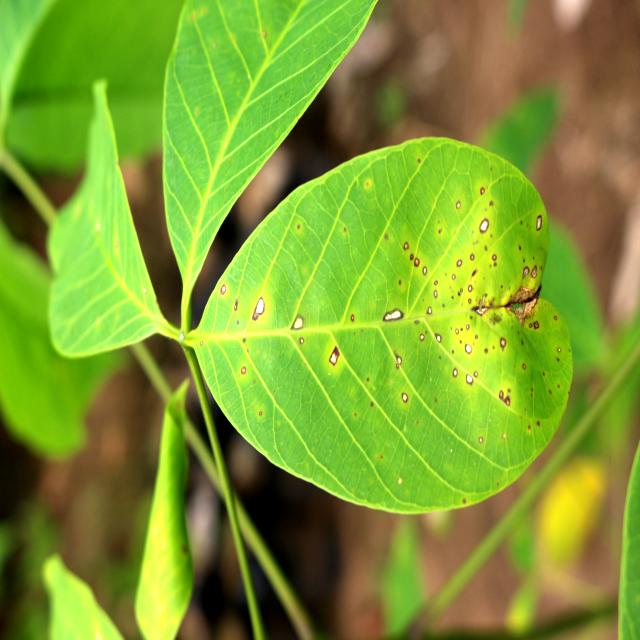Colletotrichum: (292, 317, 304, 330), (479, 218, 489, 232), (256, 298, 264, 315), (530, 265, 538, 278), (536, 215, 542, 231), (523, 266, 530, 278), (466, 374, 473, 385), (401, 392, 408, 402), (465, 344, 472, 354), (500, 337, 506, 348), (220, 284, 226, 294), (414, 258, 420, 266), (505, 397, 510, 406), (404, 242, 409, 250), (534, 321, 539, 329), (453, 368, 457, 377), (423, 266, 427, 275), (434, 290, 438, 299), (241, 367, 246, 374), (492, 254, 497, 261), (470, 254, 475, 261), (480, 187, 485, 194), (499, 391, 503, 399), (468, 284, 472, 292), (473, 371, 478, 377), (456, 202, 461, 208), (420, 334, 424, 341), (410, 253, 414, 260), (300, 338, 304, 344), (351, 314, 354, 322), (457, 260, 461, 266), (455, 328, 459, 334), (428, 307, 431, 314), (522, 364, 526, 369), (452, 274, 455, 280), (466, 324, 469, 330), (529, 324, 532, 328), (260, 411, 262, 415)
Leaf-Blight: (504, 287, 539, 326)
